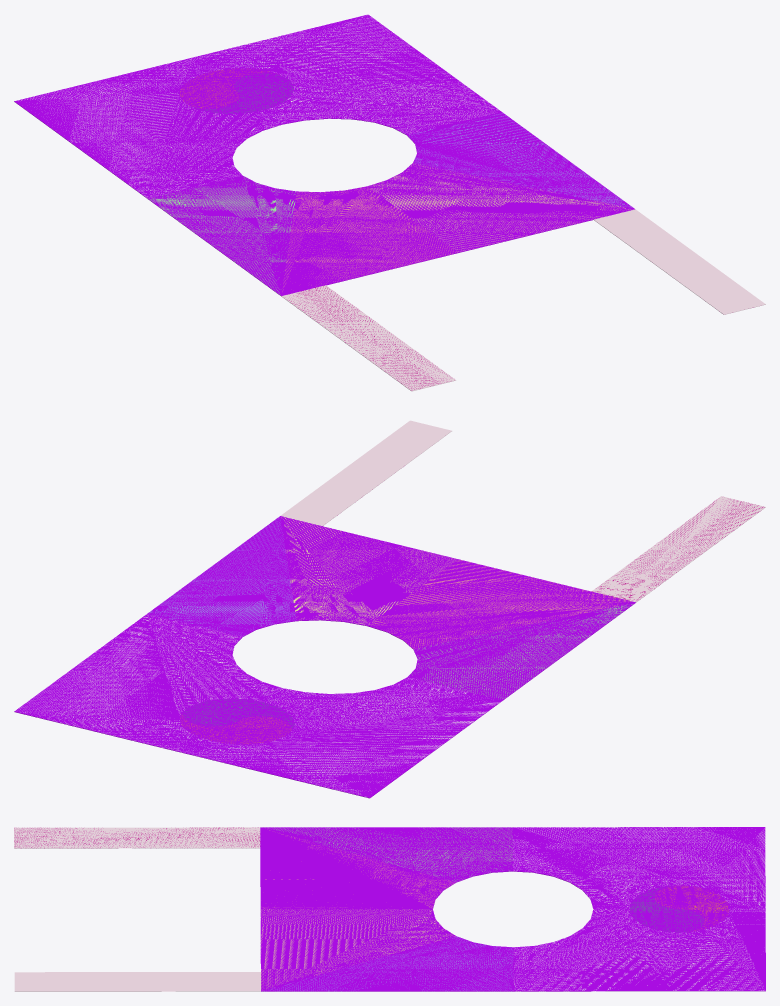
File: kite_14.dae
3 renders of one model, top to bottom at view 1: azimuth 30°, elevation 25°; view 2: azimuth 150°, elevation 25°; view 3: azimuth 270°, elevation 25°, orthographic. The views are drawn at different scales.
Visible parts, largest first — view 1: Body.015, Body.018, Body.010, Body.014, Body.016, group_5, group_0.005, Body.013, group_2.001; view 2: Body.015, Body.010, Body.018, Body.016, Body.014, group_5, group_0.005, group_2.001, Body.013; view 3: Body.015, Body.010, Body.018, Body.014, Body.016, group_5, group_0.005, group_2.001, Body.013, Body.011.
Boxes of the visible parts, x1,y1,x2,y2 form: Body.015: [14, 14, 501, 198]; Body.018: [367, 163, 634, 252]; Body.010: [281, 186, 457, 295]; Body.014: [407, 112, 634, 208]; Body.016: [148, 175, 296, 295]; group_5: [281, 285, 455, 390]; group_0.005: [594, 209, 765, 314]; Body.013: [191, 73, 293, 113]; group_2.001: [179, 68, 282, 108]; Body.015: [14, 614, 502, 797]; Body.010: [368, 559, 635, 648]; Body.018: [280, 516, 457, 625]; Body.016: [408, 602, 635, 699]; Body.014: [147, 516, 296, 636]; group_5: [591, 496, 765, 602]; group_0.005: [280, 420, 451, 525]; group_2.001: [179, 712, 291, 744]; Body.013: [183, 698, 294, 730]; Body.015: [512, 827, 765, 991]; Body.010: [260, 827, 455, 909]; Body.018: [260, 909, 455, 991]; Body.014: [262, 936, 513, 991]; Body.016: [260, 827, 512, 882]; group_5: [14, 827, 260, 848]; group_0.005: [14, 972, 260, 991]; group_2.001: [654, 885, 729, 932]; Body.013: [629, 886, 704, 932]; Body.011: [261, 991, 765, 991].
Size of the model in its own units: 9.33 by 18.02 by 0.00852.
